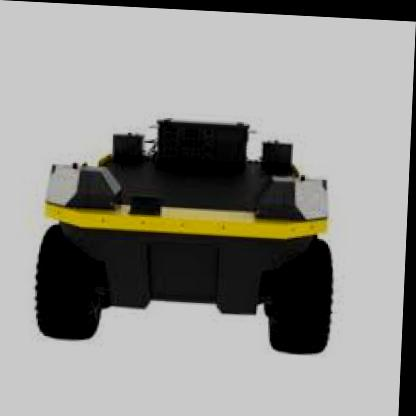UGV: (37, 113, 341, 352)
